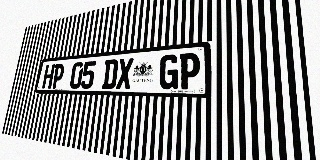0: (69, 62, 84, 89)
5: (80, 61, 96, 89)
D: (102, 59, 119, 89)
G: (159, 54, 179, 89)
H: (42, 64, 55, 88)
P: (178, 52, 200, 89), (51, 63, 65, 89)
X: (116, 58, 134, 89)
